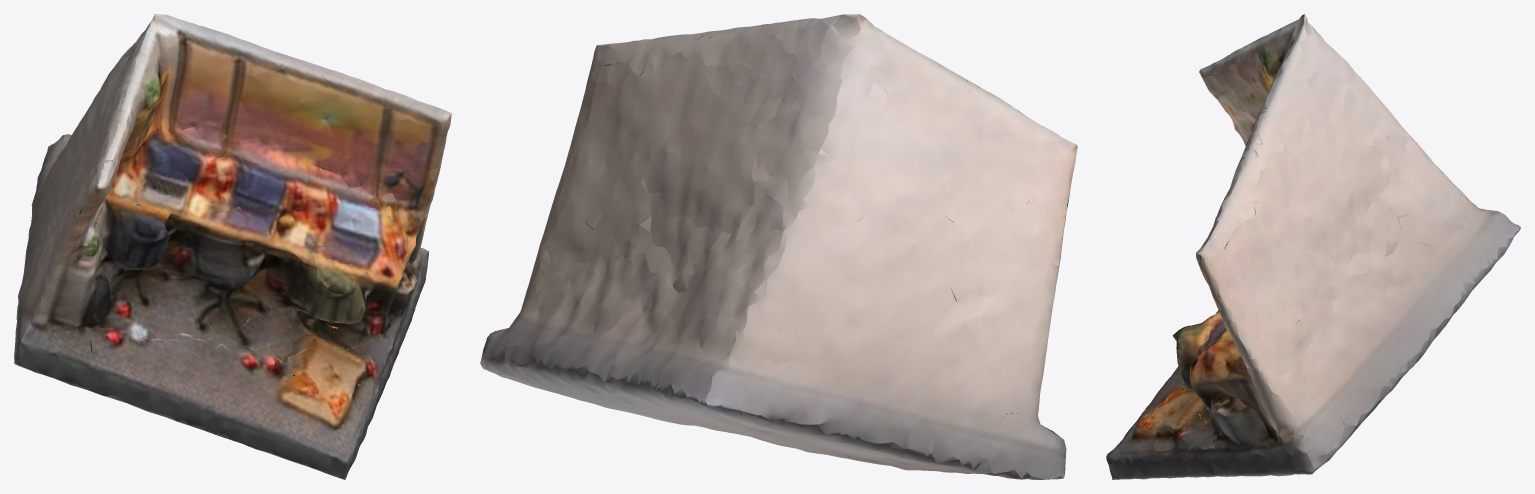
The picture shows the model from 3 angles, left to right: view 1: azimuth 30°, elevation 25°; view 2: azimuth 150°, elevation 25°; view 3: azimuth 270°, elevation 25°; orthographic projection. The views are drawn at different scales.
Parts seen in each view (by area): view 1: world; view 2: world; view 3: world.
Part boxes in pixels (bbox=[...]): world: bbox=[14, 14, 451, 479]; world: bbox=[480, 14, 1077, 479]; world: bbox=[1106, 14, 1520, 479].
Size of the model in its own units: 1 by 0.9527 by 0.8529.
Materials: 1 (1 with a texture image).
